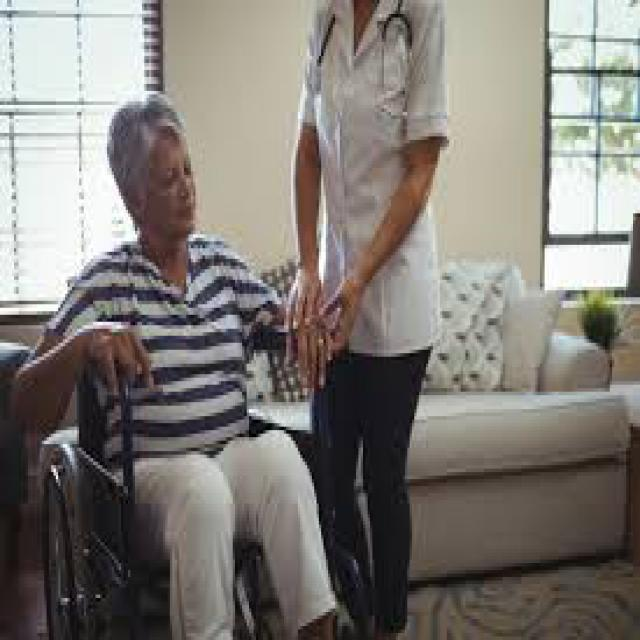wheelchairs: (9, 318, 321, 637)
